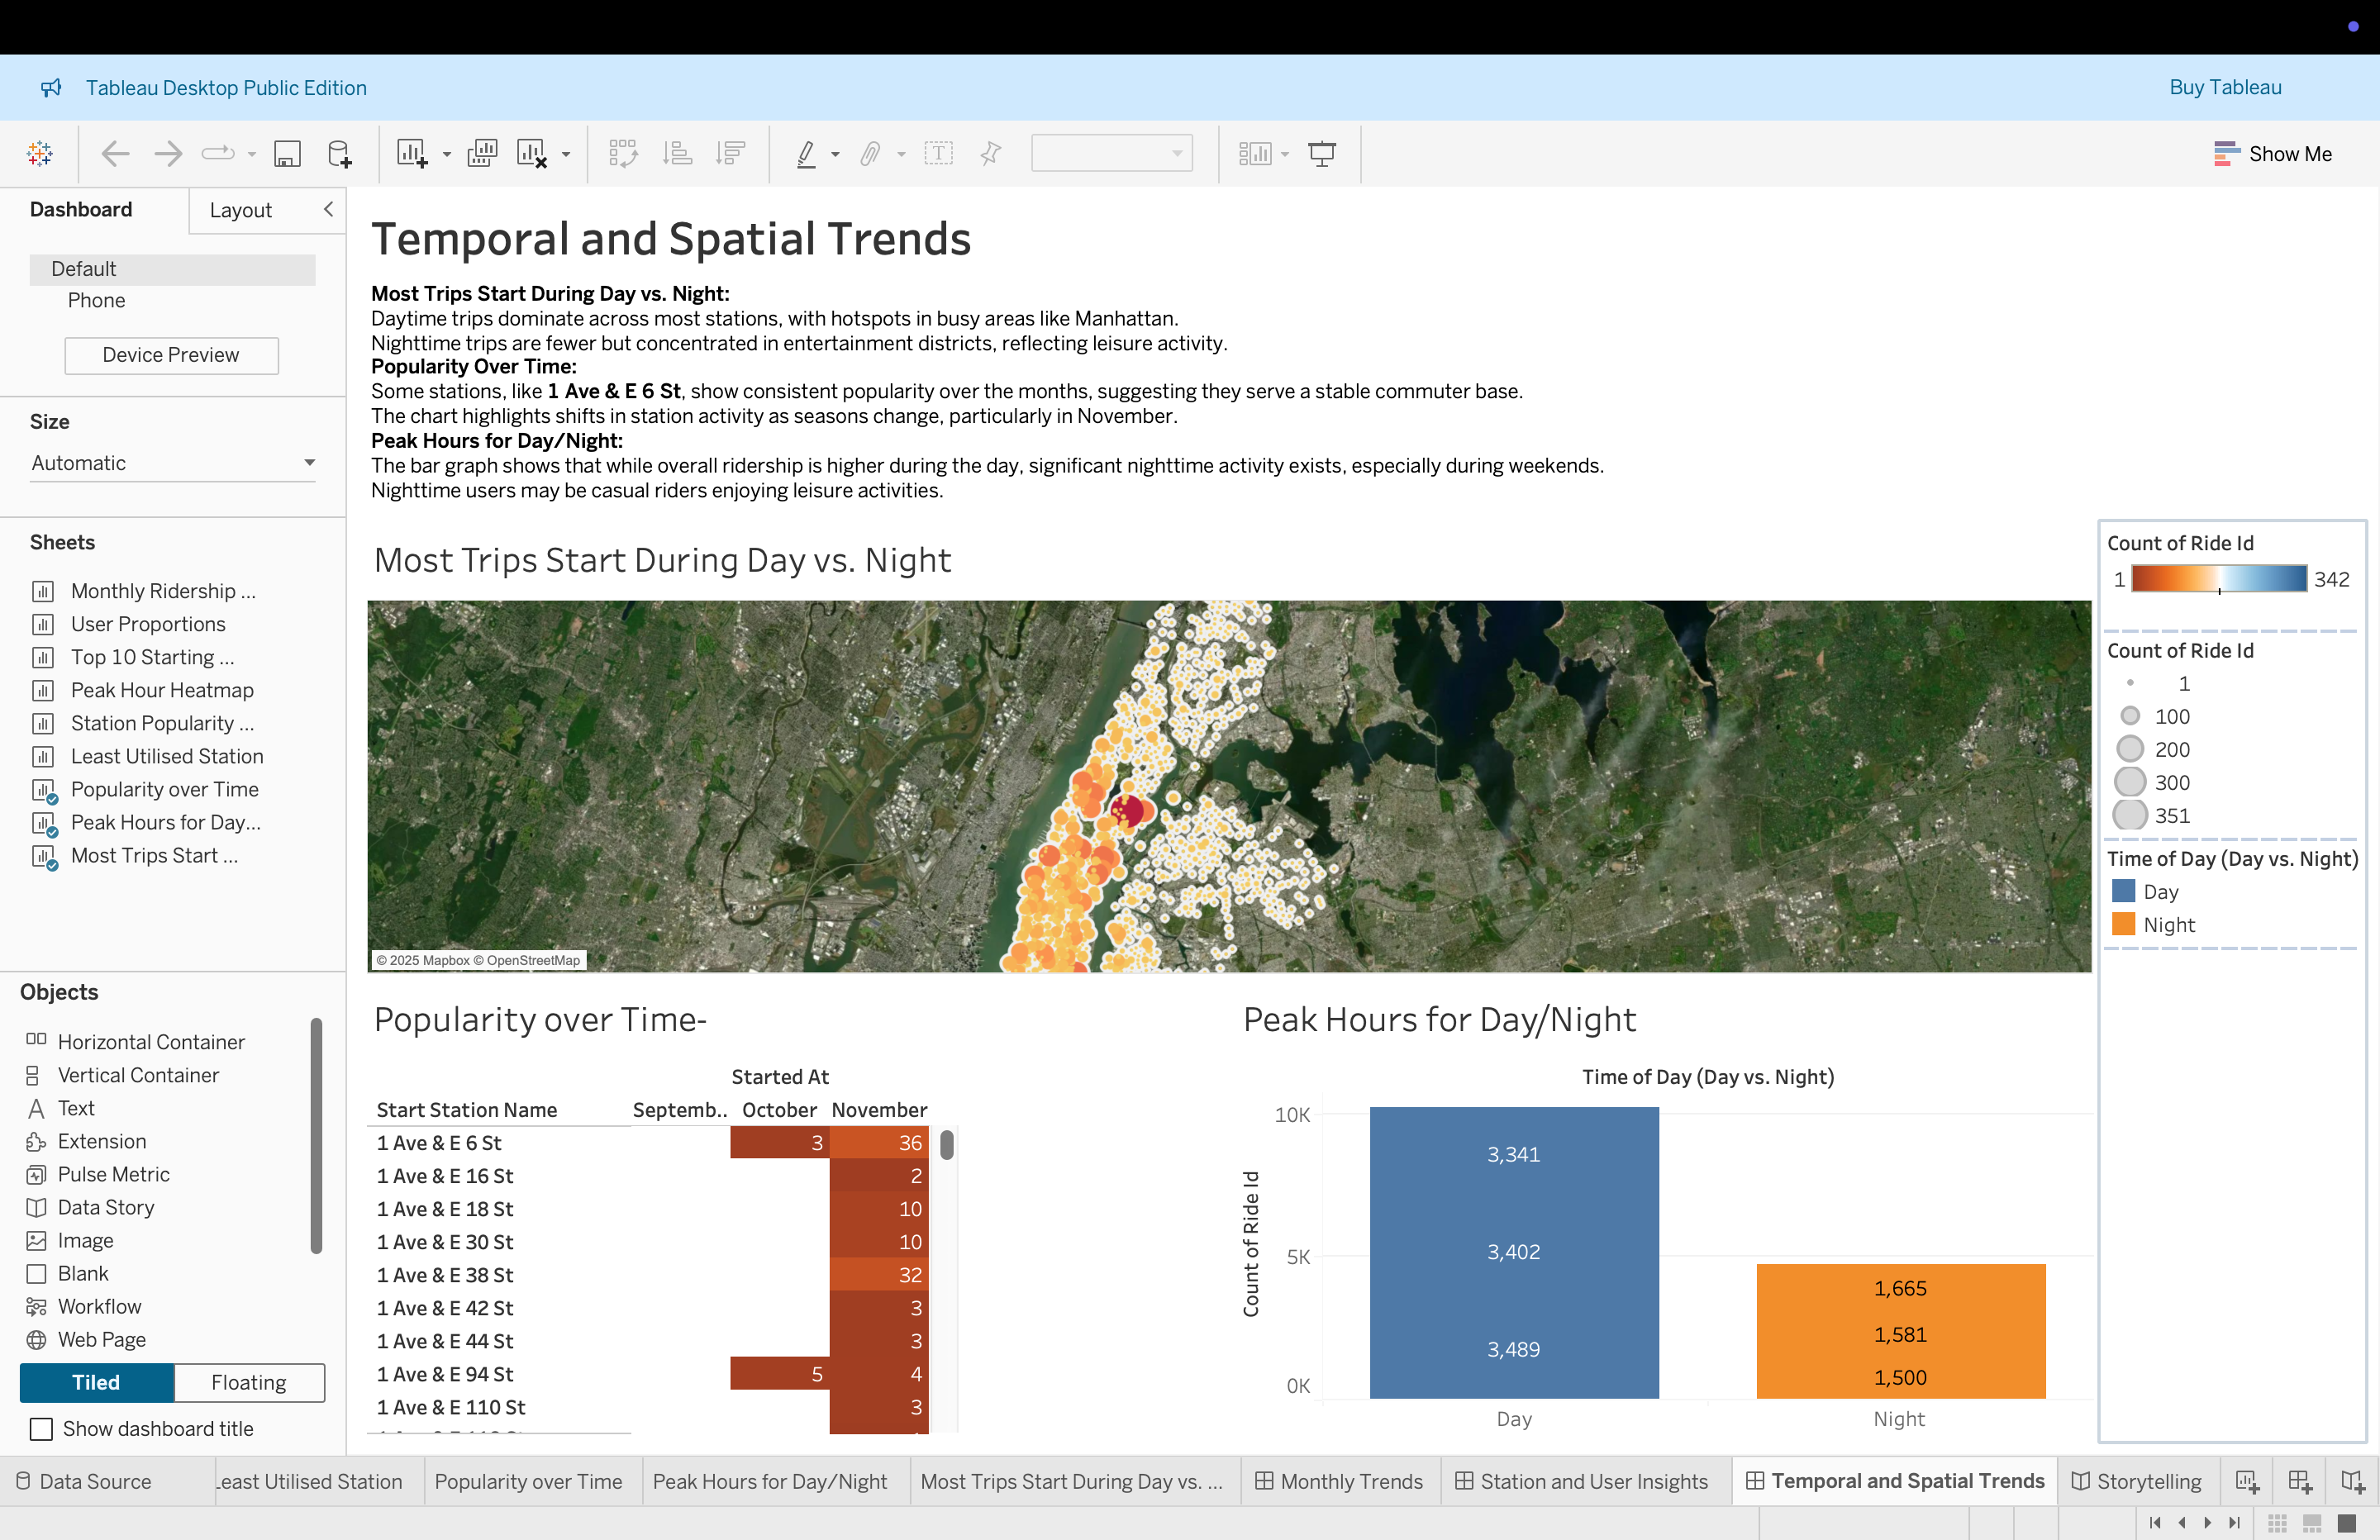

The page's visual inventory and layout, read from the dashboard file:
{"tool":"tableau","page":{"name":"Temporal and Spatial Trends","canvas":[1000,1000],"units":"permille","ordinal":2},"visuals":[{"type":"title","box":[8.5,11.5,983,64.8]},{"type":"text","box":[8.5,76.4,983,216.1]},{"type":"worksheet","title":"Most Trips Start During Day vs. Night","mark":"Automatic","rows":["Start Lat"],"cols":["Start Lng"],"box":[8.5,292.5,813.4,347.9]},{"type":"legend","title":"Popularity over Time","param":"[federated.135g5j40vtv48m1bom8z51b5k51r].[cnt:Ride Id:qk]","box":[821.9,292.5,169.7,93.7]},{"type":"legend","title":"Most Trips Start During Day vs. Night","param":"[federated.135g5j40vtv48m1bom8z51b5k51r].[cnt:Ride Id:qk]","box":[821.9,386.2,169.7,181.6]},{"type":"legend","title":"Peak Hours for Day/Night","param":"[federated.135g5j40vtv48m1bom8z51b5k51r].[none:Calculation_1405826803221291008:n","box":[821.9,567.7,169.7,95.1]},{"type":"worksheet","title":"Popularity over Time","mark":"Square","rows":["Start Station Name"],"cols":["Started At"],"box":[8.5,640.5,406.7,348]},{"type":"worksheet","title":"Peak Hours for Day/Night","mark":"Automatic","rows":["Ride Id"],"cols":["Calculation_1405826803221291008"],"box":[415.1,640.5,406.7,348]}]}

Visuals, with their boxes on the dashboard's canvas, which has no fixed pixel size, in thousandths of its width and height (x1, y1, x2, y2). These are canvas units, not pixel positions in the 2380x1540 screenshot, which may show the page scaled, cropped or inside an application window:
title: BBox(8, 12, 992, 76)
text: BBox(8, 76, 992, 292)
"Most Trips Start During Day vs. Night" worksheet: BBox(8, 292, 822, 640)
"Popularity over Time" legend: BBox(822, 292, 992, 386)
"Most Trips Start During Day vs. Night" legend: BBox(822, 386, 992, 568)
"Peak Hours for Day/Night" legend: BBox(822, 568, 992, 663)
"Popularity over Time" worksheet (Square marks): BBox(8, 640, 415, 988)
"Peak Hours for Day/Night" worksheet: BBox(415, 640, 822, 988)
